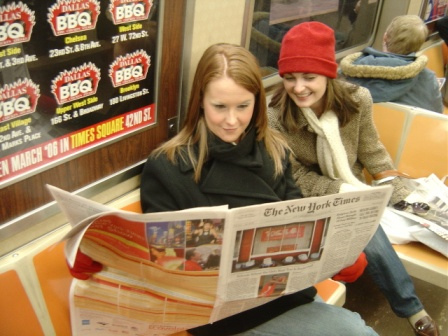person: (140, 44, 382, 336)
